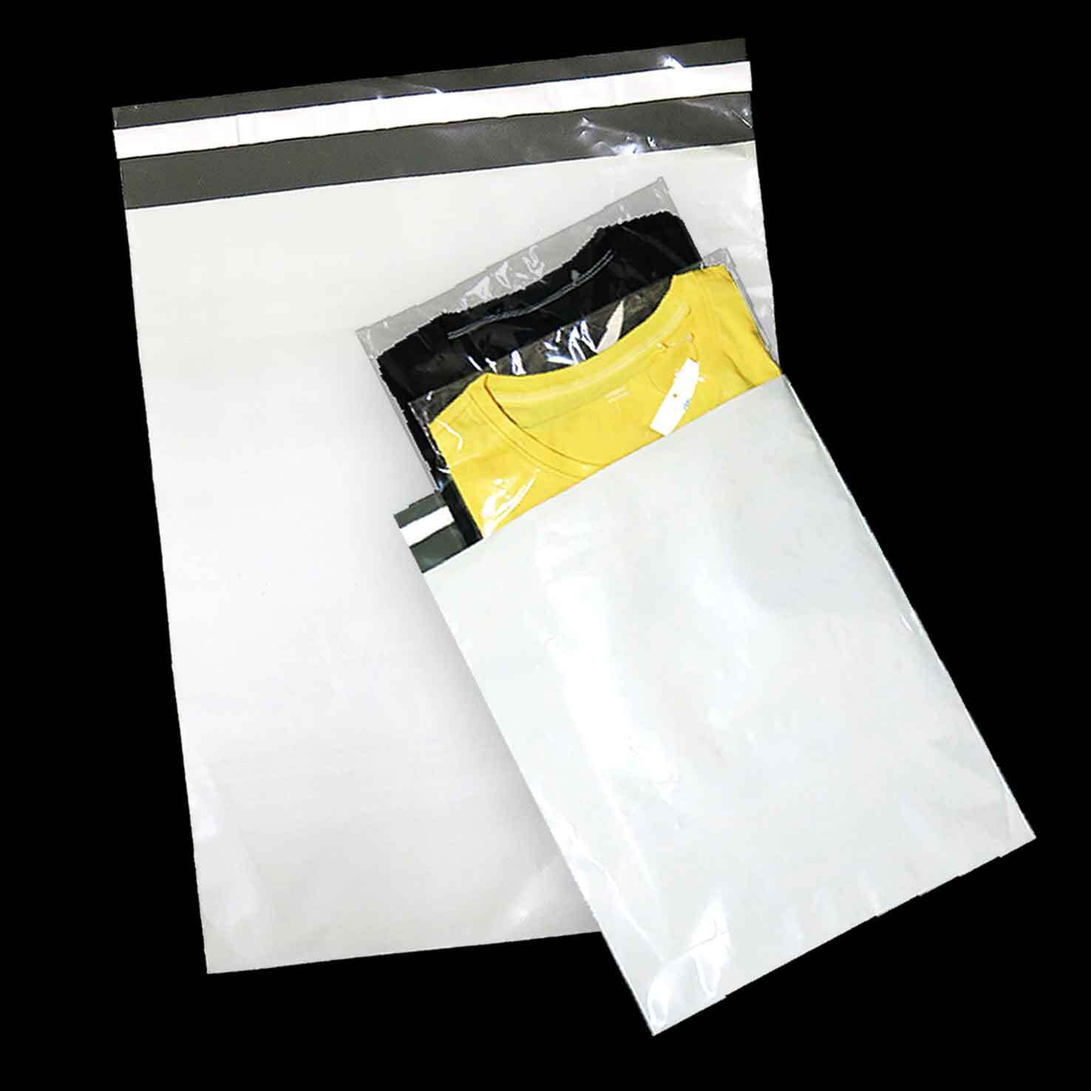Parcel: (114, 44, 1031, 1032)
